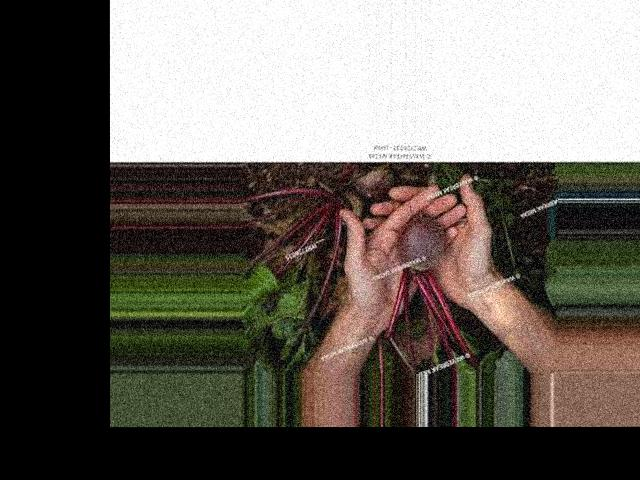beet: (384, 211, 479, 369)
